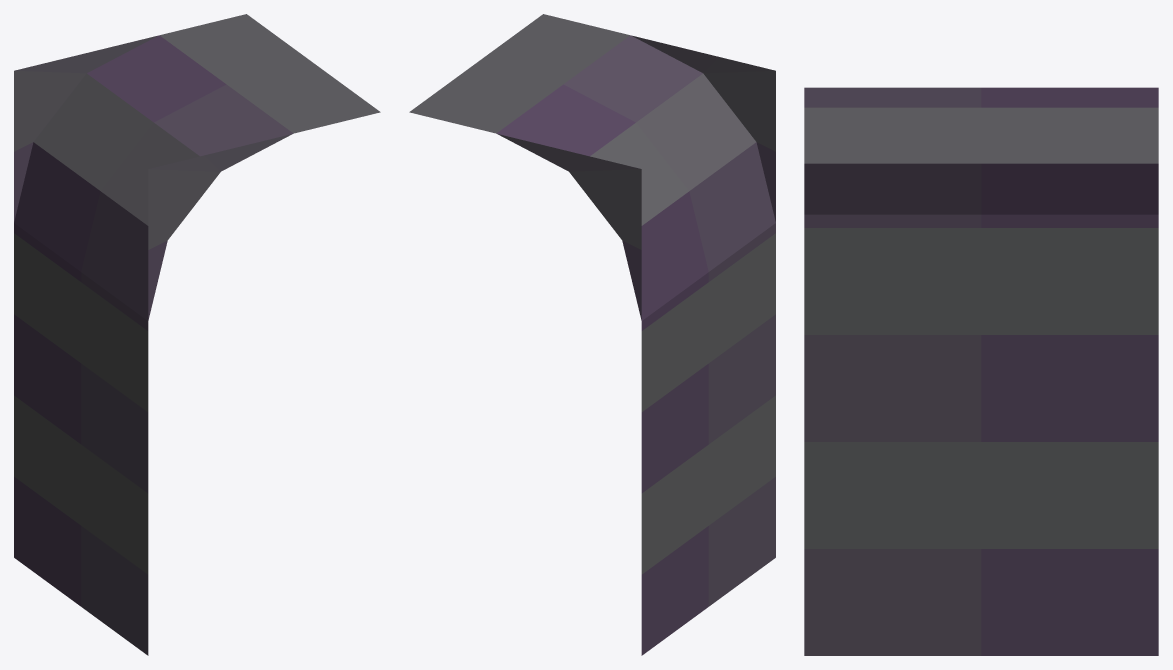
Rendered from wall-large-blocks-arch-1000a.glb.
The picture shows the model from 3 angles, left to right: view 1: azimuth 30°, elevation 25°; view 2: azimuth 150°, elevation 25°; view 3: azimuth 270°, elevation 25°; orthographic projection. The views are drawn at different scales.
Parts seen in each view (by area): view 1: wall-large-blocks-1000.007; view 2: wall-large-blocks-1000.007; view 3: wall-large-blocks-1000.007.
Boxes of the visible parts, x1,y1,x2,y2 form: wall-large-blocks-1000.007: (14,14,380,655); wall-large-blocks-1000.007: (409,14,775,655); wall-large-blocks-1000.007: (804,87,1158,655).
Bounding box in the file's own units: 2 × 4 × 2.
Materials: 1 (1 with a texture image).
